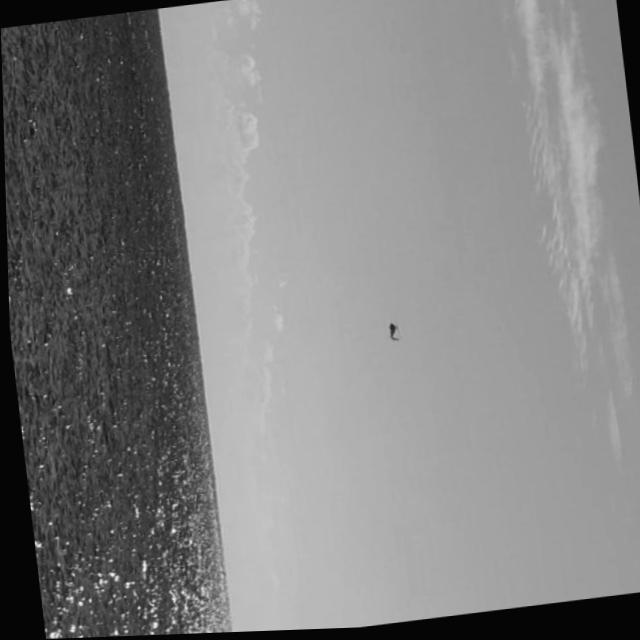helikopter: (322, 281, 439, 402)
